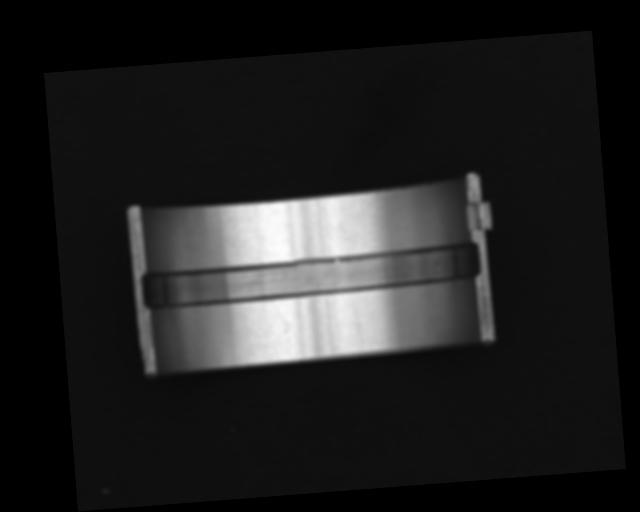gap: (138, 241, 480, 311)
nick: (352, 310, 363, 343)
